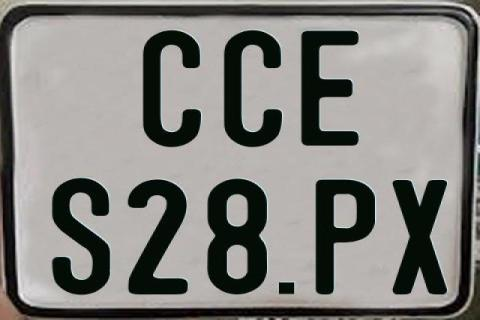0: (205, 176, 269, 295), (126, 179, 188, 296)
C: (224, 29, 288, 149), (143, 30, 202, 150)
E: (298, 30, 360, 148)
P: (315, 177, 380, 297)
S: (50, 176, 108, 296)
X: (391, 180, 449, 298)
